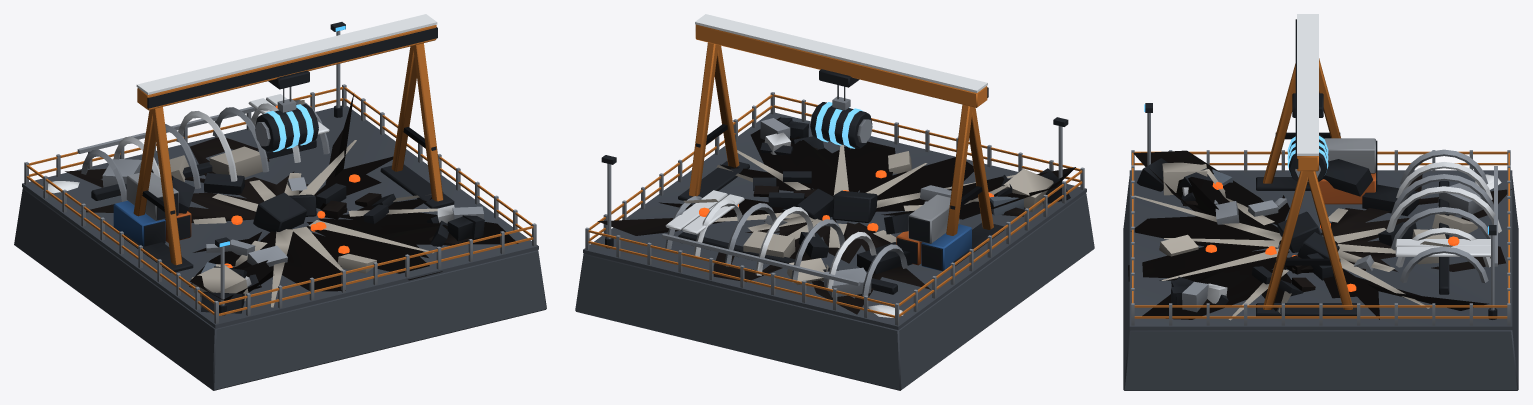
Rendered from salvage-yard-vesper.glb.
3 renders of one model, left to right at view 1: azimuth 30°, elevation 25°; view 2: azimuth 150°, elevation 25°; view 3: azimuth 270°, elevation 25°, orthographic. The views are drawn at different scales.
Visible parts, largest first — view 1: site_salvage_yard_vesper_body, site_salvage_yard_vesper_ruin, site_salvage_yard_vesper_core; view 2: site_salvage_yard_vesper_body, site_salvage_yard_vesper_ruin, site_salvage_yard_vesper_core; view 3: site_salvage_yard_vesper_body, site_salvage_yard_vesper_ruin, site_salvage_yard_vesper_core.
Part boxes in pixels (x1,y1,x2,y2): site_salvage_yard_vesper_body: [14, 14, 546, 390]; site_salvage_yard_vesper_ruin: [65, 93, 518, 313]; site_salvage_yard_vesper_core: [255, 104, 318, 152]; site_salvage_yard_vesper_body: [575, 14, 1094, 390]; site_salvage_yard_vesper_ruin: [597, 117, 1075, 314]; site_salvage_yard_vesper_core: [810, 102, 872, 148]; site_salvage_yard_vesper_body: [1123, 14, 1518, 390]; site_salvage_yard_vesper_ruin: [1128, 150, 1511, 320]; site_salvage_yard_vesper_core: [1287, 134, 1328, 184].
Bounding box in the file's own units: 5.9 × 3.86 × 6.1.
